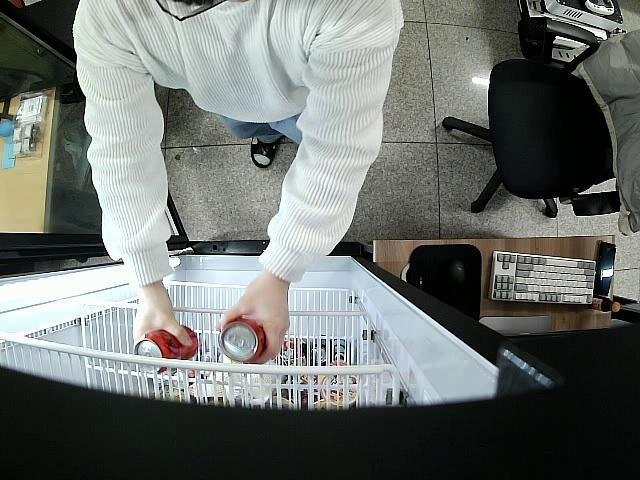11_cocaColaZero: (134, 326, 202, 373), (219, 316, 266, 364)
